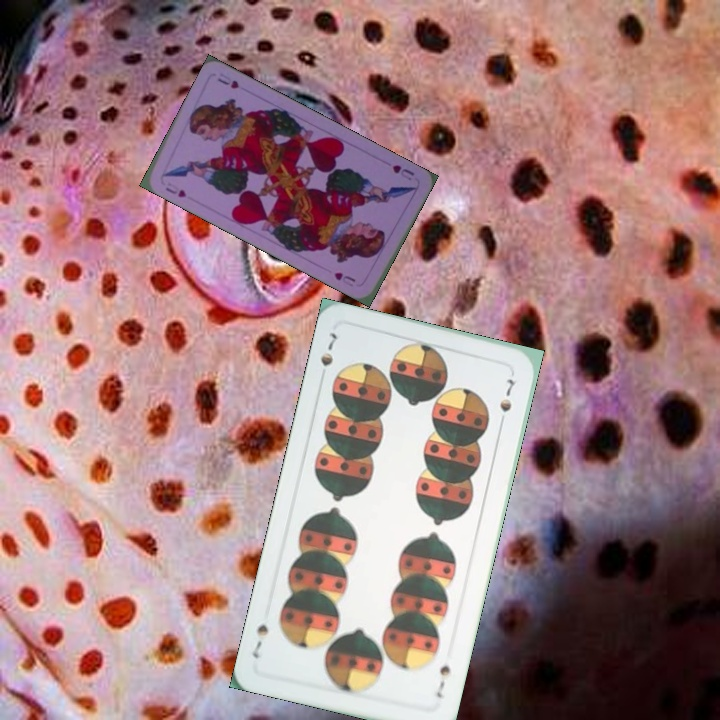HU: (388, 161, 417, 183), (161, 183, 189, 200)
S7: (316, 328, 340, 369), (432, 661, 453, 701)
